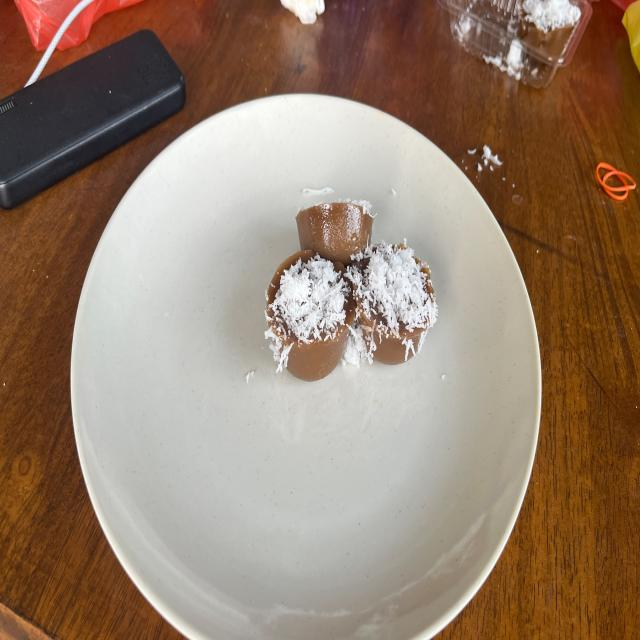Kuih lompang: (265, 249, 355, 380), (348, 242, 438, 364), (296, 202, 374, 267)
